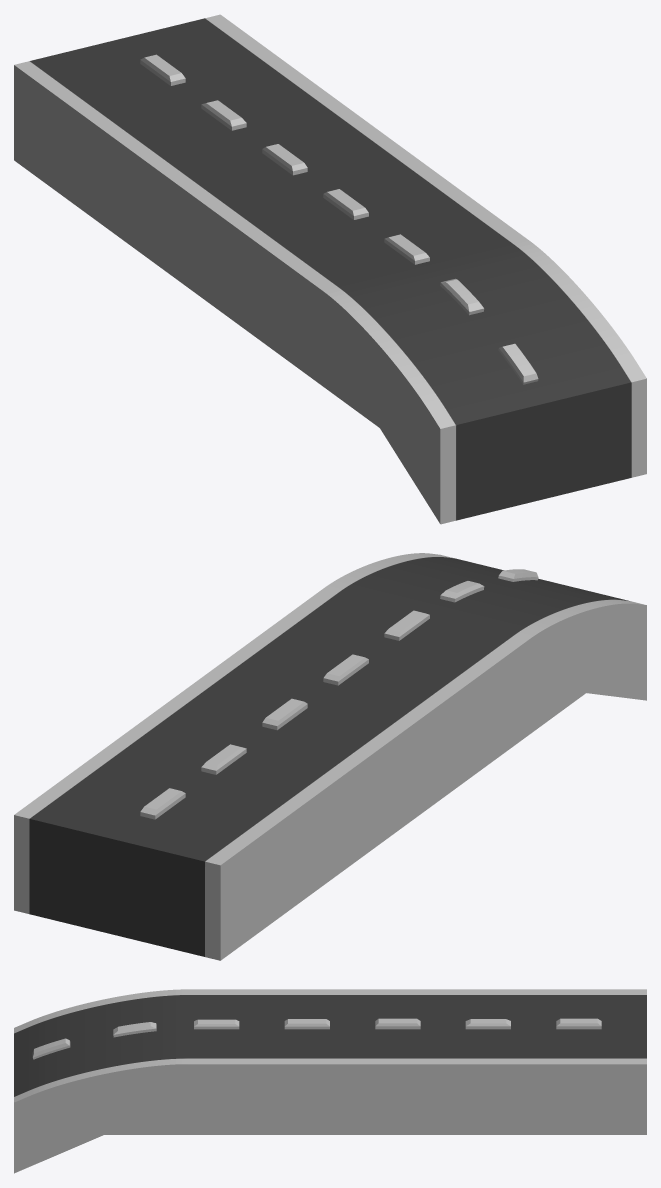
The model's file is road.fbx.
3 views of the same model, one above another, from view 1: azimuth 30°, elevation 25°; view 2: azimuth 150°, elevation 25°; view 3: azimuth 270°, elevation 25° (orthographic). The views are drawn at different scales.
Parts seen in each view (by area): view 1: Cube; view 2: Cube; view 3: Cube.
Part boxes in pixels (x1,y1,x2,y2): Cube: (14,14,646,524); Cube: (14,553,646,960); Cube: (14,989,646,1173).
Size of the model in its own units: 596 by 428 by 2132.
